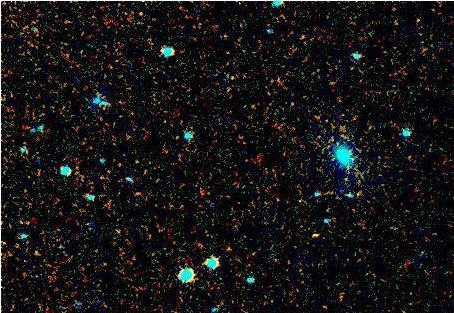star: (300, 221, 330, 251)
